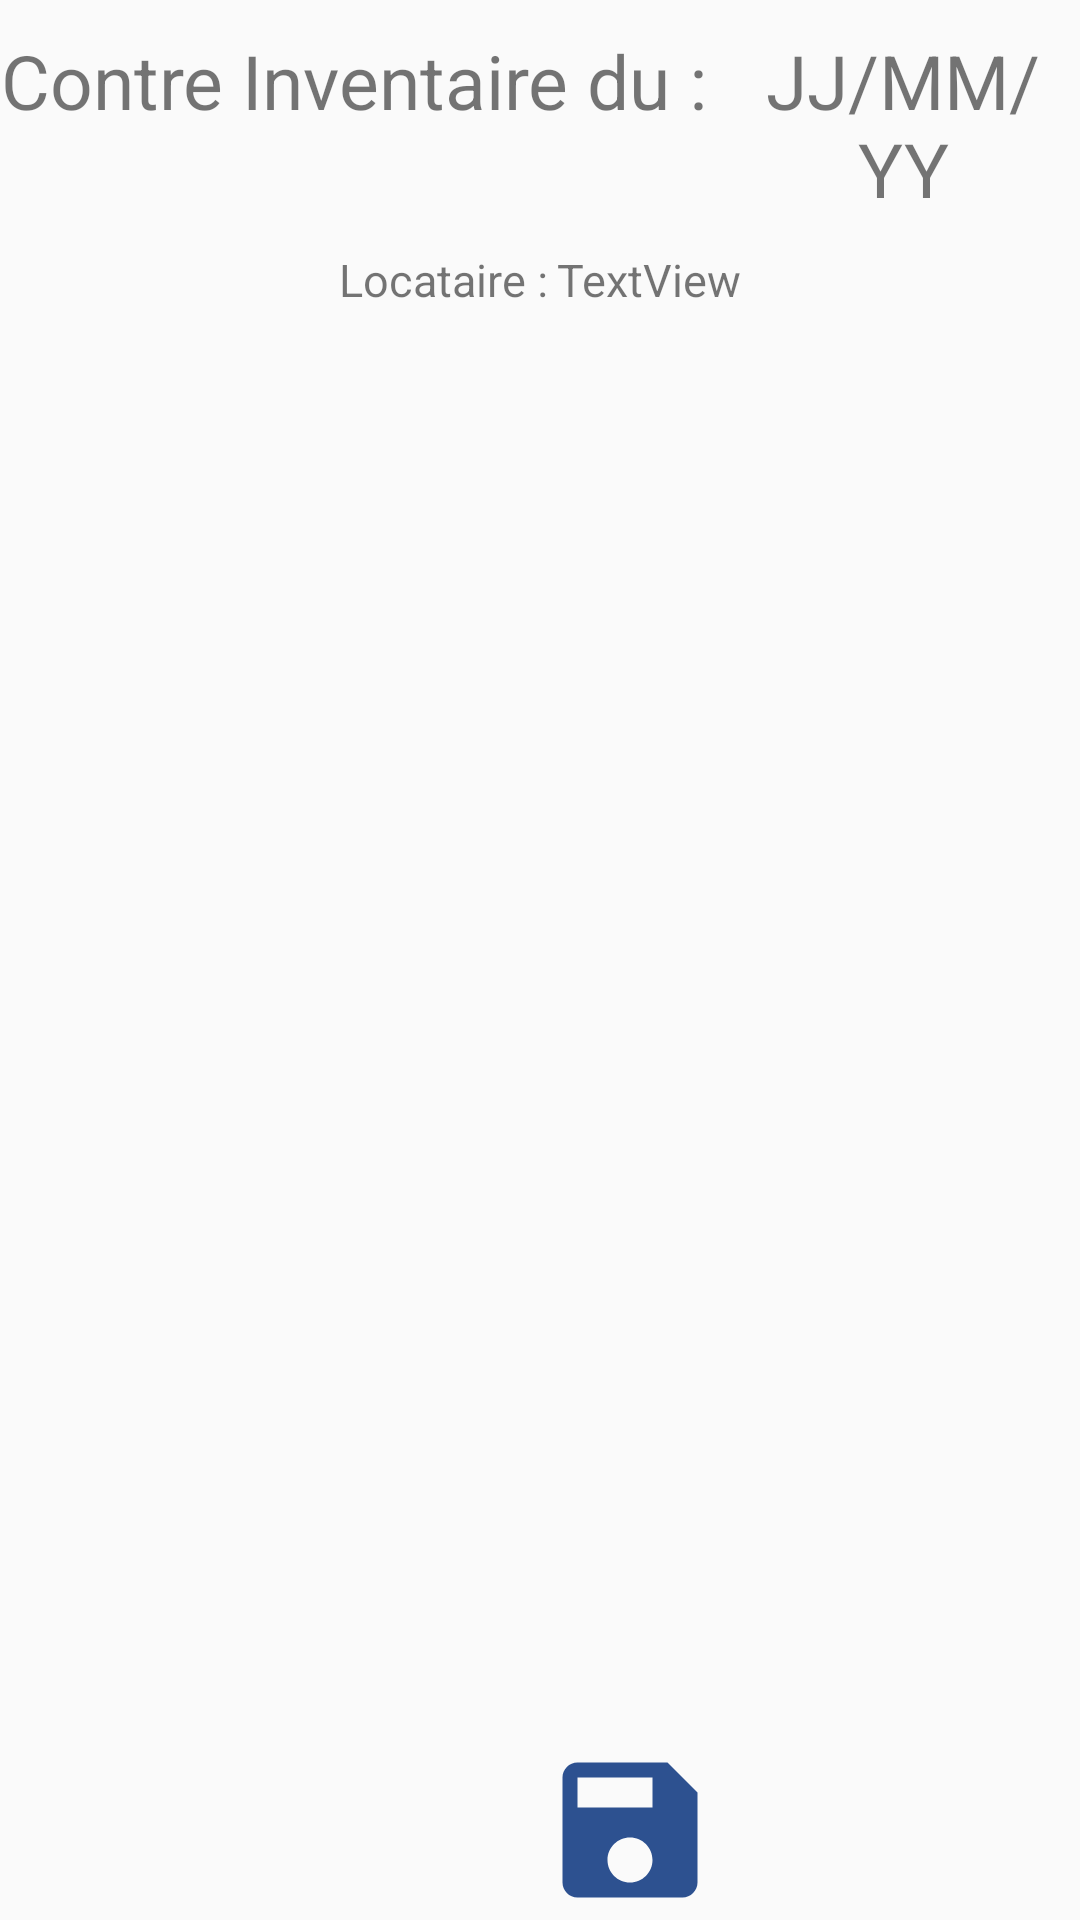

Where icons sit on this 1080*1920 app screen, as (x1, y1, x2, y2):
save: (562, 1762, 698, 1898)
